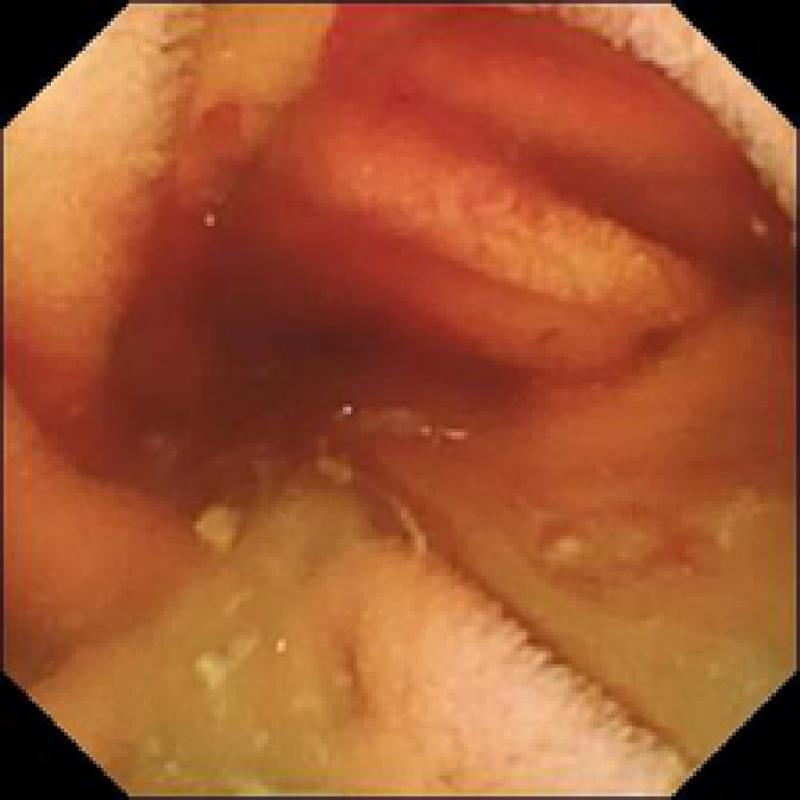bleeding: (7, 4, 800, 514)
